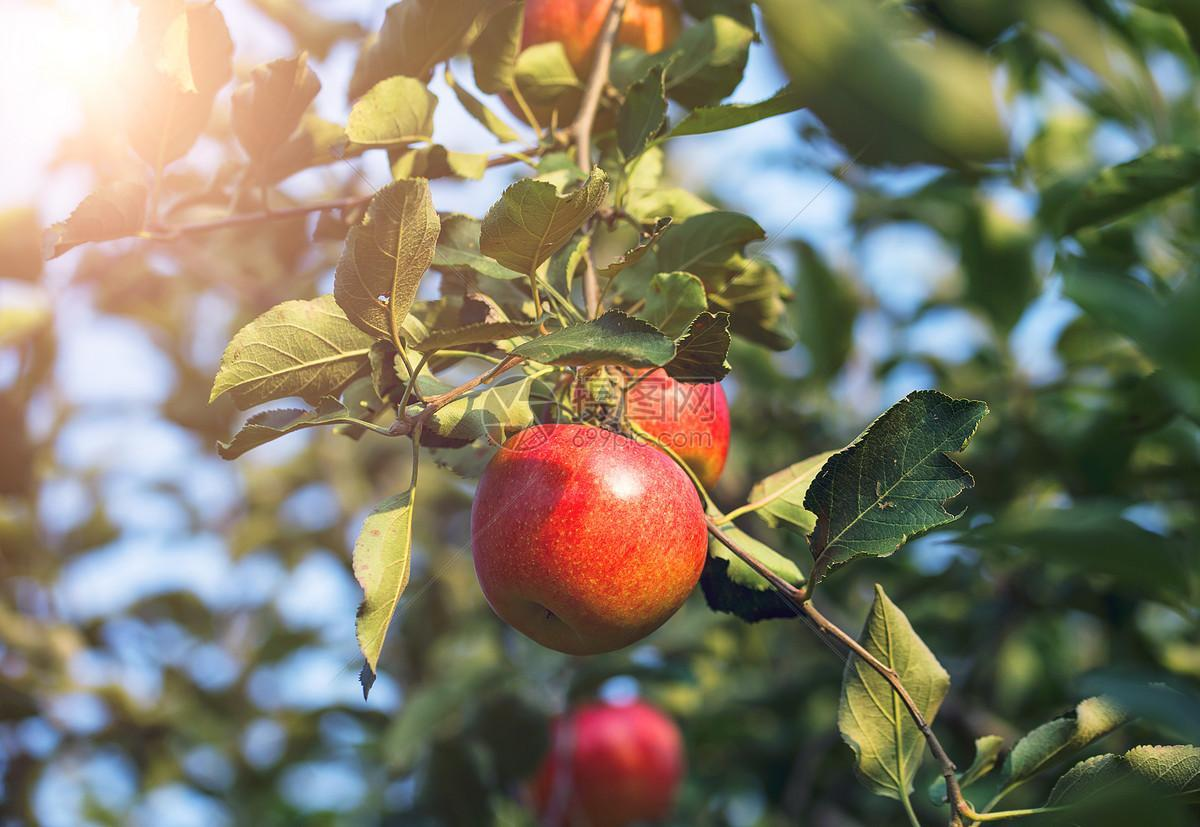apple: (472, 423, 711, 654)
